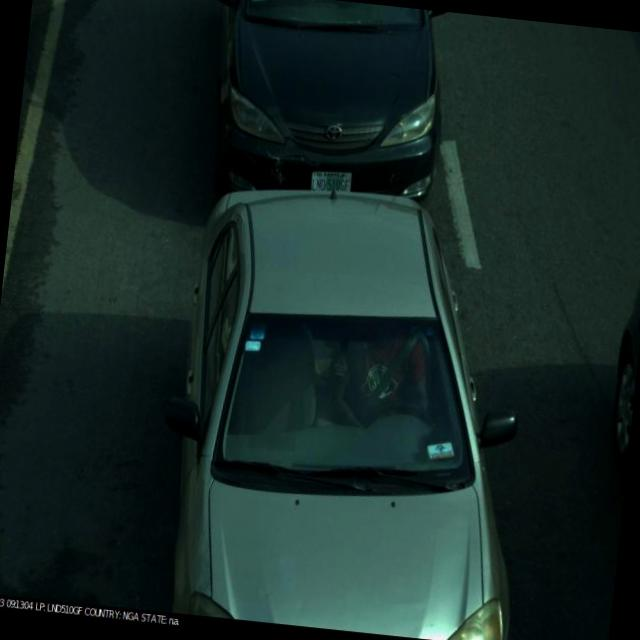person_with_seatbelt: (327, 305, 462, 450)
